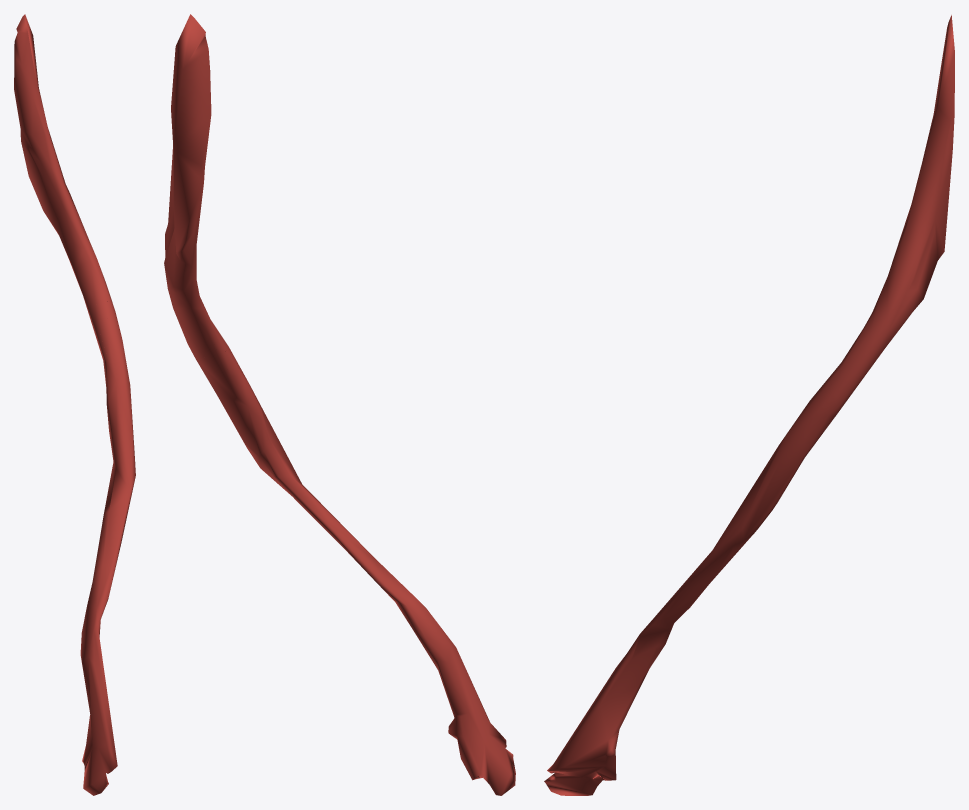
File: musculos-fibularis-tertius-muscle-r.glb
The picture shows the model from 3 angles, left to right: view 1: azimuth 30°, elevation 25°; view 2: azimuth 150°, elevation 25°; view 3: azimuth 270°, elevation 25°; orthographic projection. The views are drawn at different scales.
Parts seen in each view (by area): view 1: Fibularis tertius muscle.r; view 2: Fibularis tertius muscle.r; view 3: Fibularis tertius muscle.r.
Part boxes in pixels (left/top/right/bottom): Fibularis tertius muscle.r: left=14, top=14, right=135, bottom=795; Fibularis tertius muscle.r: left=164, top=14, right=515, bottom=795; Fibularis tertius muscle.r: left=544, top=15, right=954, bottom=795.
Bounding box in the file's own units: 0.0254 × 0.1225 × 0.0547.
